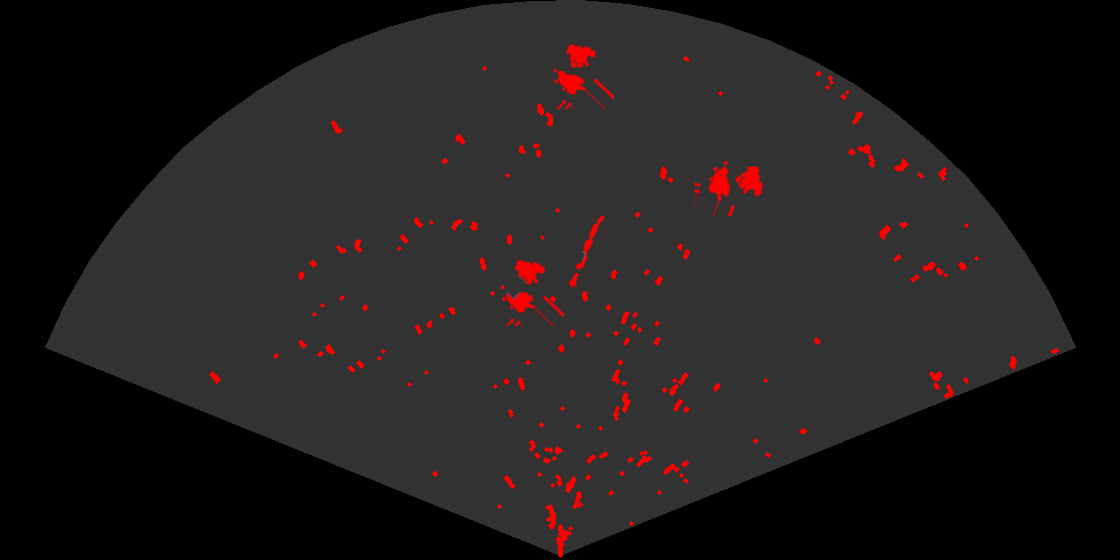cage: (499, 258, 564, 326), (551, 42, 614, 109), (694, 159, 765, 216)
chain: (567, 213, 606, 290)
